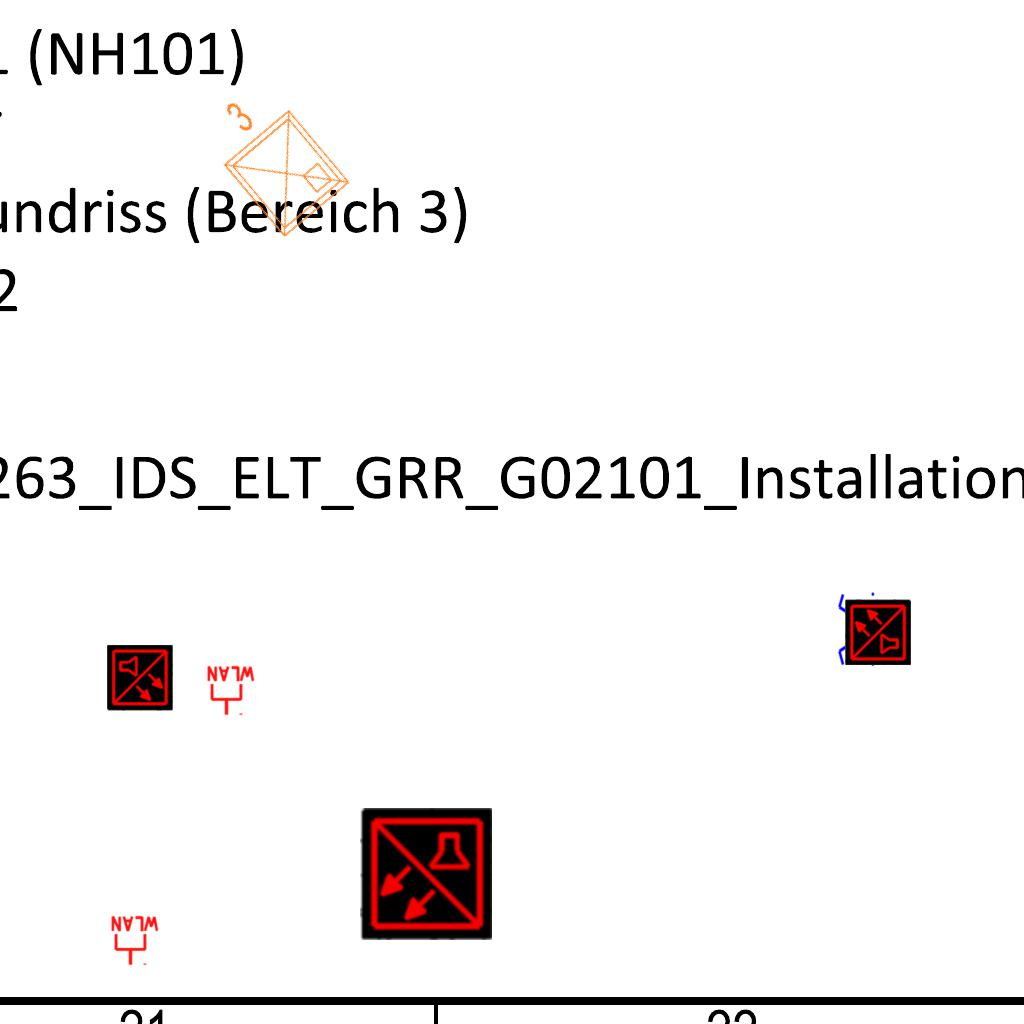Einbaudownlights_LED_Konferenzraeume: (183, 68, 361, 250)
OKW_Multisensormelder_(Kombination_optischer_Rauch-Kahlenmonoxid_Waerme-Melder): (360, 808, 492, 940), (107, 645, 173, 711), (845, 599, 911, 665)
Serienschalter: (836, 588, 884, 672)
WLAN: (109, 915, 161, 967), (205, 665, 257, 717)
